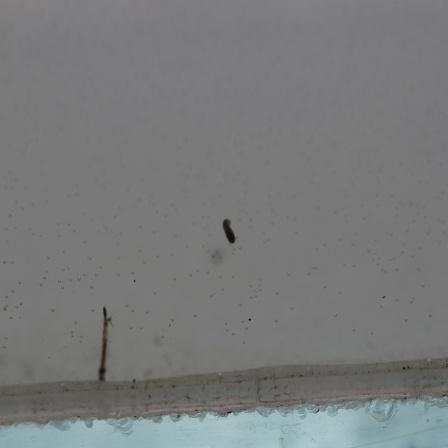Jentik-Nyamuk: (97, 303, 118, 386), (220, 214, 242, 250)
